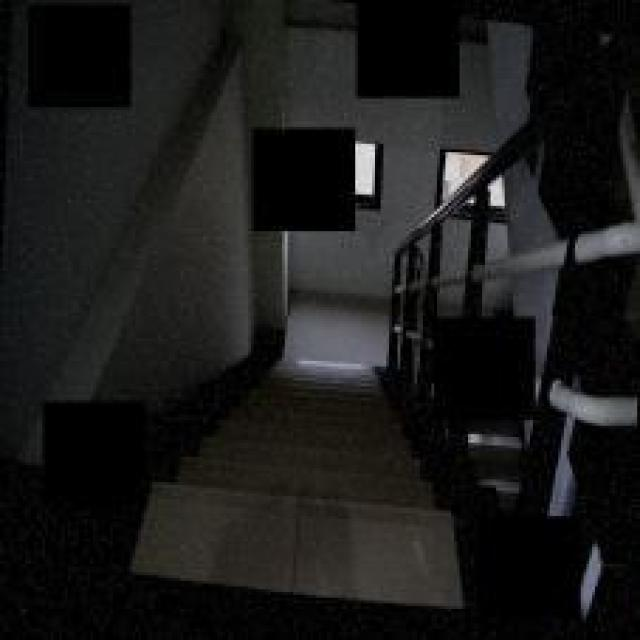downstair: (238, 336, 401, 596)
